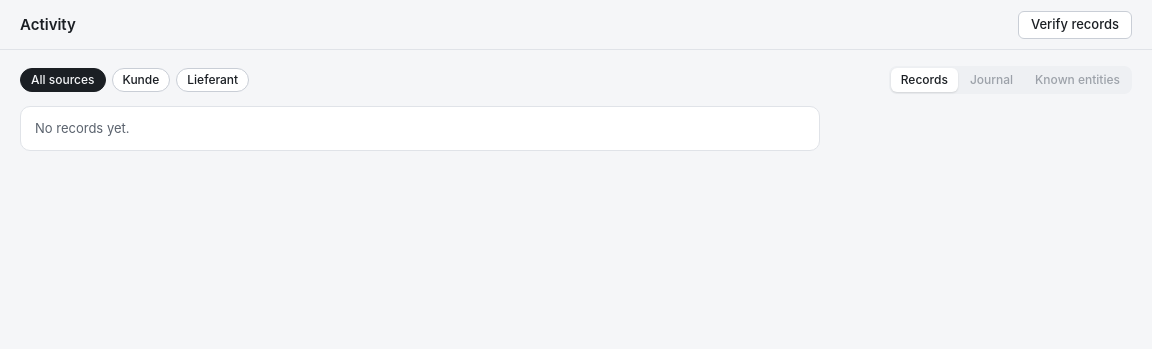
Test: Activity › a reveal does not carry over to another data source or to All
The width and height of the screenshot is (1152, 349).
Click the button "Kunde": click(141, 80) [112,68,170,92]
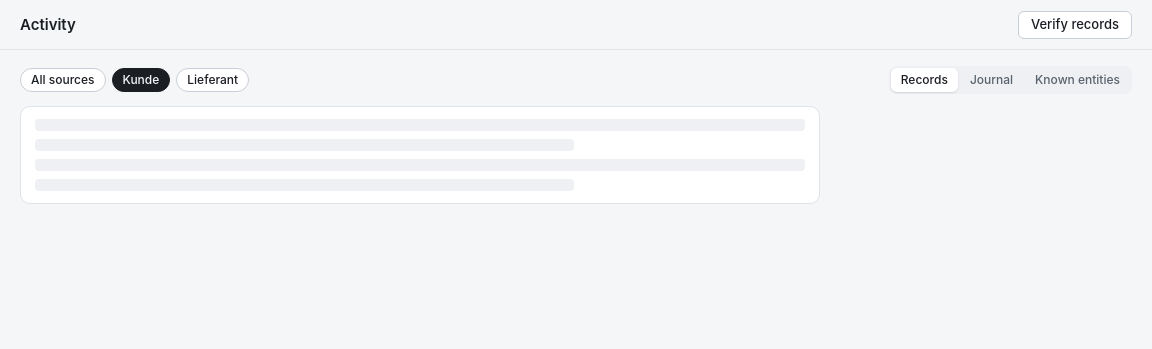
Click the tab "Known entities": click(1078, 80) [1025,68,1130,92]
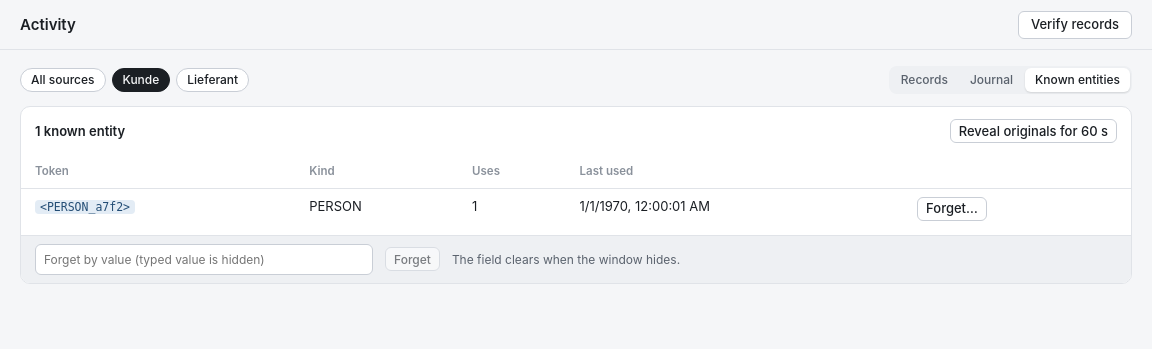
Result: the text "<PERSON_a7f2>" is shown at [35,200,135,214]
Click the button "Reveal originals for 60 s": click(1033, 131) [950,119,1117,143]
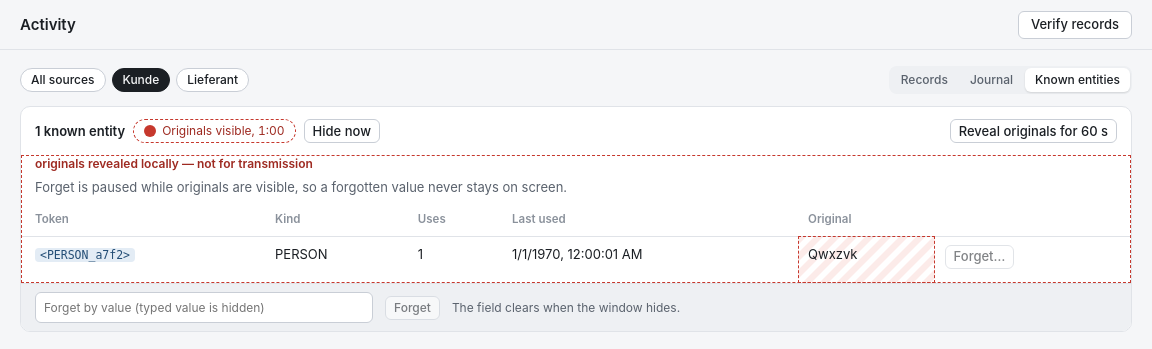
Result: the text "Qwxzvk" is shown at [798,236,935,283]
Result: the text "originals revealed locally — not for transmission" is shown at [35,156,313,171]
Click the button "Lieferant": click(213, 80) [176,68,249,92]
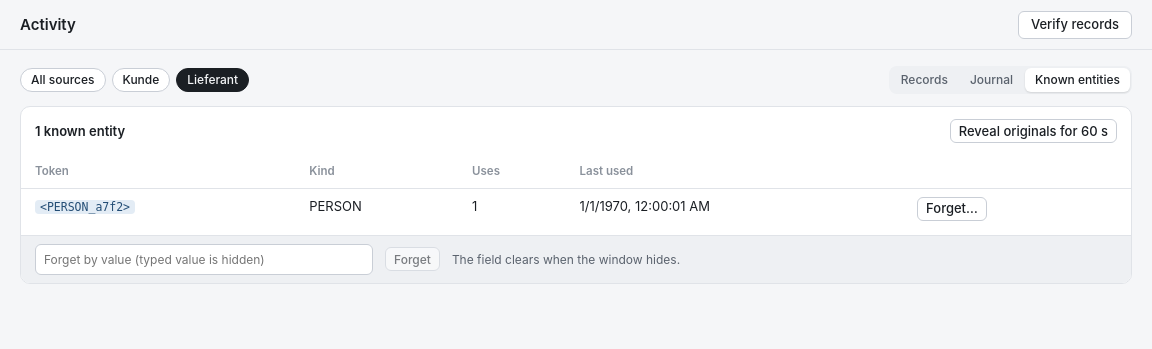
Result: the text "<PERSON_a7f2>" is shown at [35,200,135,214]
Result: the text "originals revealed locally — not for transmission" is gone
Result: the text "Qwxzvk" is gone
Click the button "All sources": click(63, 80) [20,68,106,92]
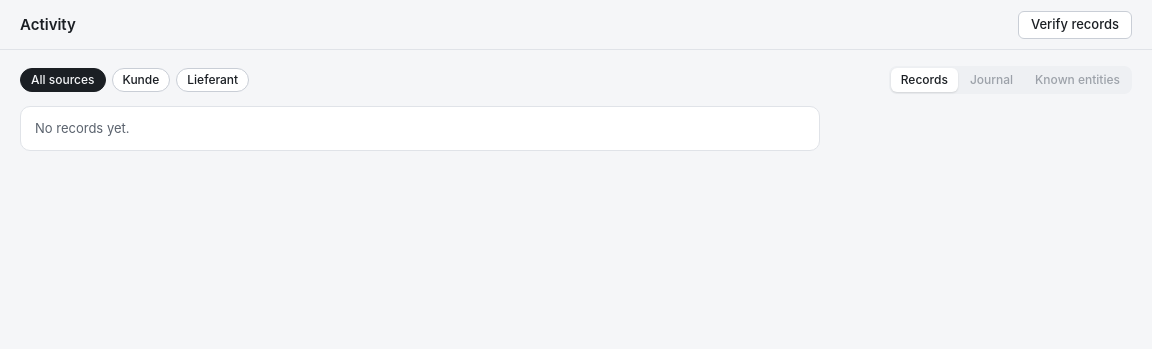
Expected: the text "originals revealed locally — not for transmission" is not shown
Result: the text "<PERSON_a7f2>" is gone
Result: the tab "Known entities" is disabled at [1025,68,1130,92]
